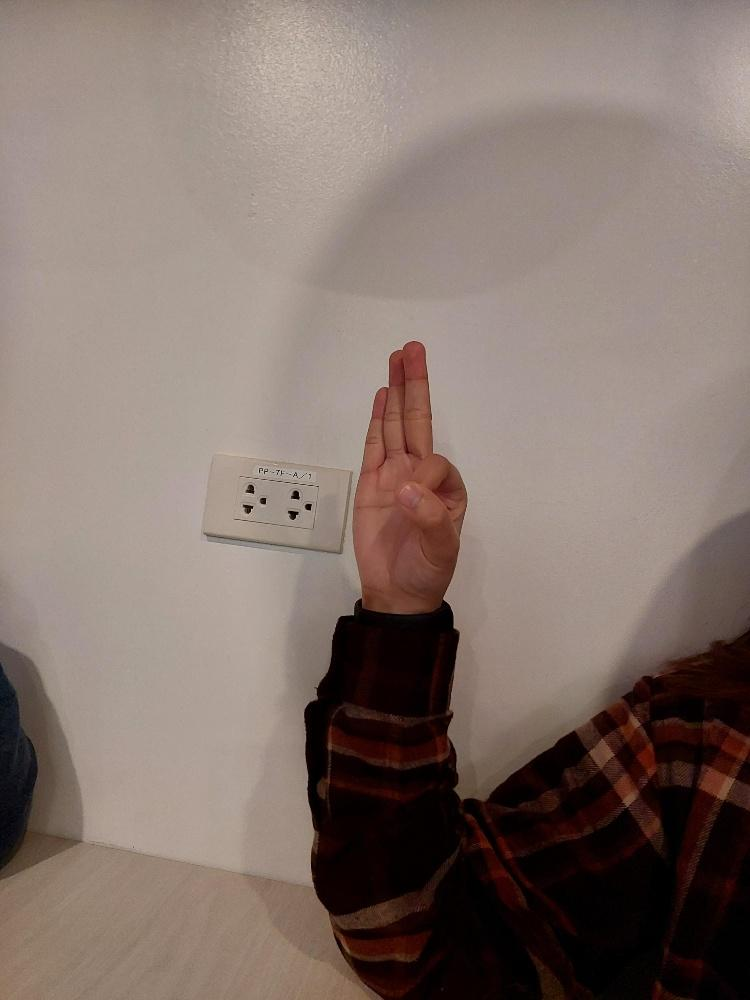f: (346, 335, 471, 616)
